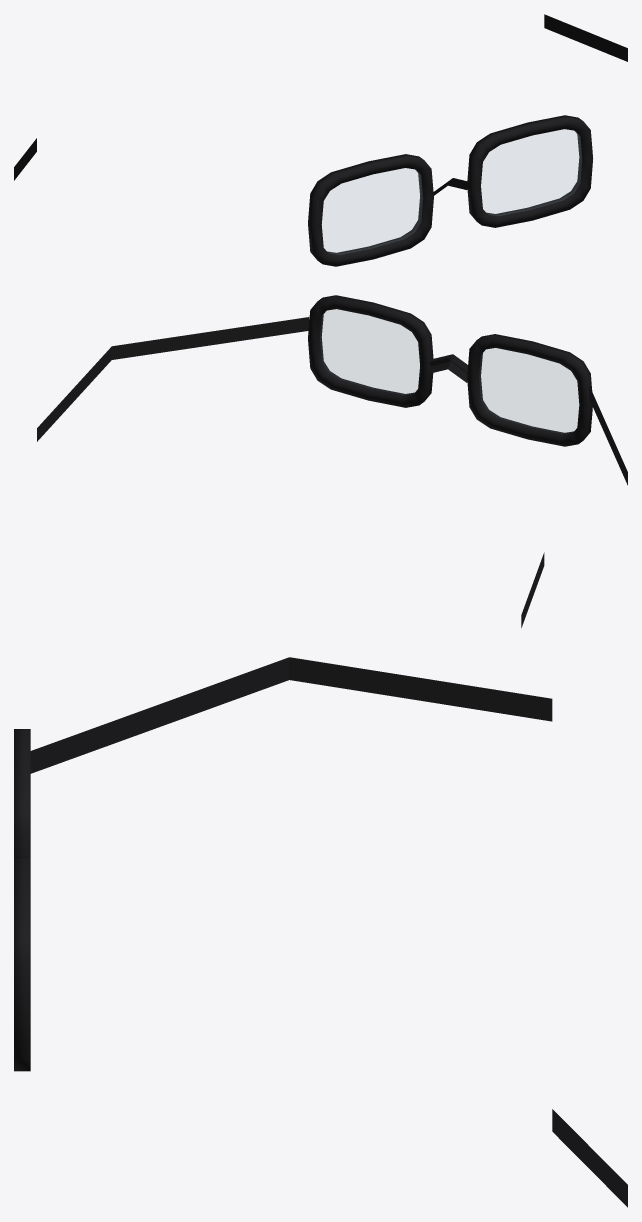
Rendered from accessory_glasses_male.glb.
3 views of the same model, one above another, from view 1: azimuth 30°, elevation 25°; view 2: azimuth 150°, elevation 25°; view 3: azimuth 270°, elevation 25° (orthographic). The views are drawn at different scales.
Parts seen in each view (by area): view 1: accessory_glasses; view 2: accessory_glasses; view 3: accessory_glasses.
Boxes of the visible parts, left/top/right/bottom form: accessory_glasses: left=14, top=14, right=627, bottom=266; accessory_glasses: left=37, top=295, right=627, bottom=627; accessory_glasses: left=14, top=657, right=627, bottom=1207.
Bounding box in the file's own units: 0.2346 × 0.0475 × 0.146.
